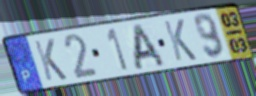1: (106, 26, 131, 73)
2: (63, 32, 100, 81)
9: (193, 12, 226, 61)
A: (132, 22, 168, 72)
K: (32, 37, 69, 83), (162, 17, 199, 63)
